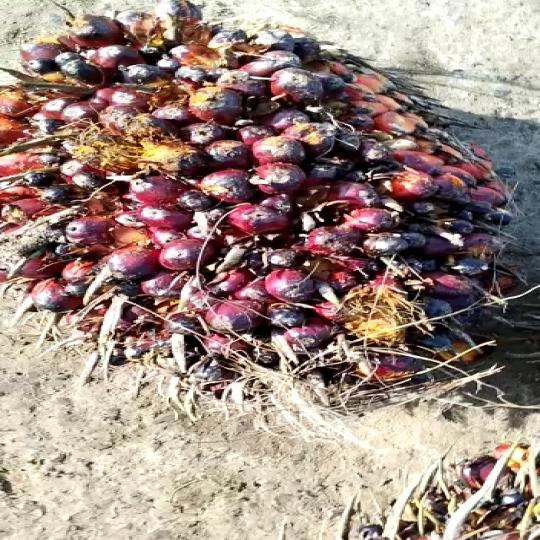masak: (0, 4, 540, 402)
